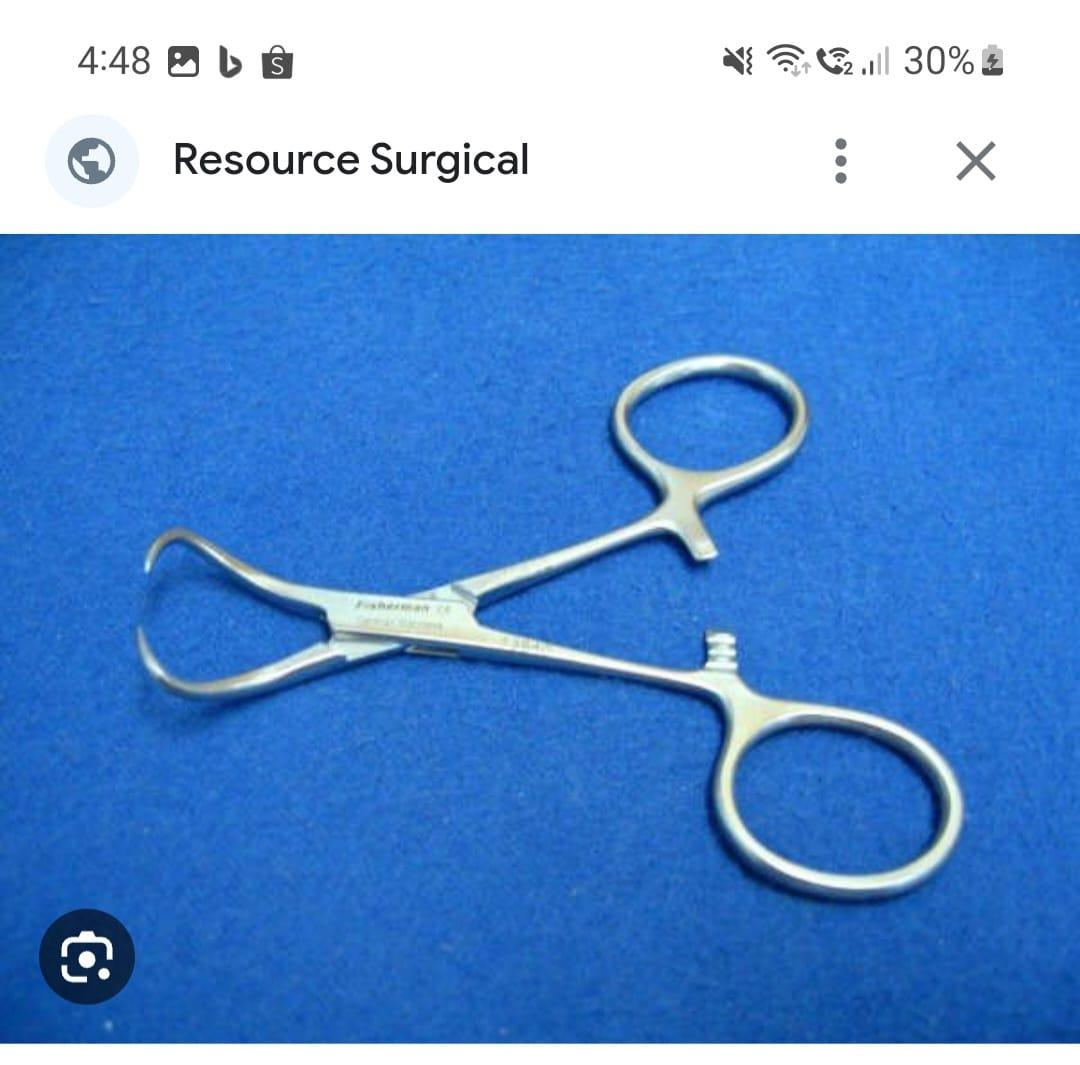Backhaus Towel Clamp: (133, 343, 963, 905)
